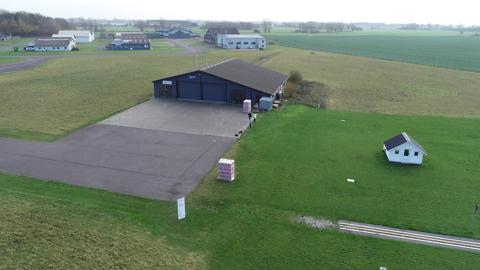RockwoolPallet: (243, 99, 252, 113)
